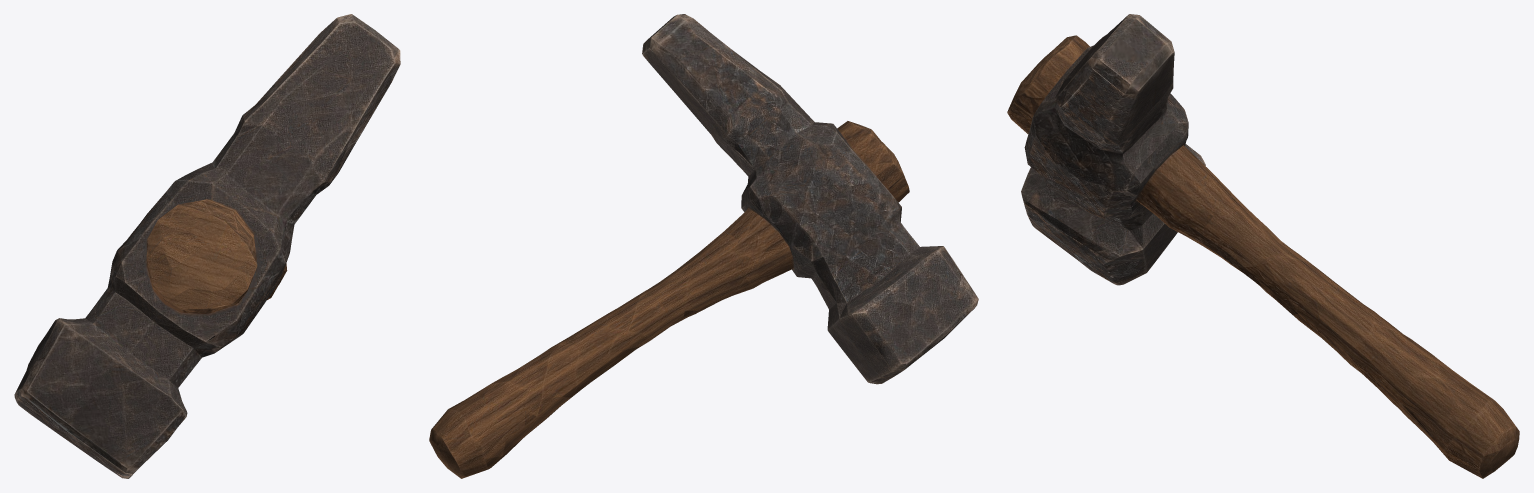
The model's file is smith.glb.
The picture shows the model from 3 angles, left to right: view 1: azimuth 30°, elevation 25°; view 2: azimuth 150°, elevation 25°; view 3: azimuth 270°, elevation 25°; orthographic projection. The views are drawn at different scales.
Visible parts, largest first — view 1: Module_tool_smith_0; view 2: Module_tool_smith_0; view 3: Module_tool_smith_0.
Boxes of the visible parts, x1,y1,x2,y2 form: Module_tool_smith_0: [14, 14, 400, 478]; Module_tool_smith_0: [429, 14, 978, 478]; Module_tool_smith_0: [1007, 14, 1519, 478].
Size of the model in its own units: 0.2766 by 0.2563 by 0.2836.
Materials: 1 (1 with a texture image).
